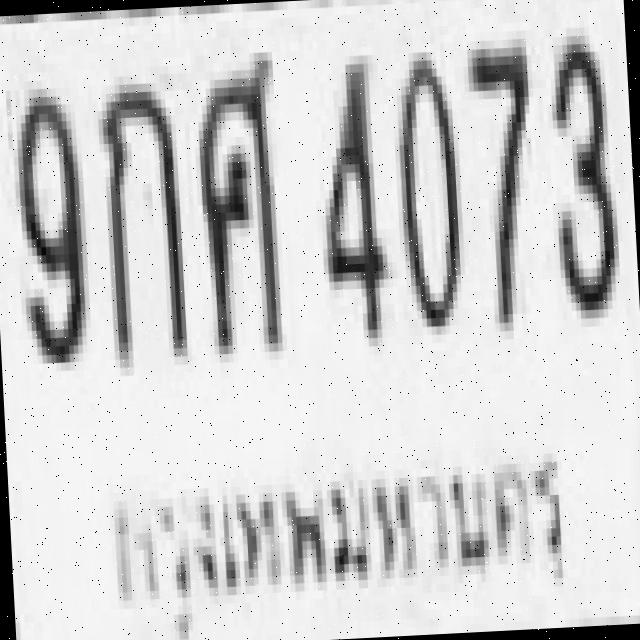0: (389, 42, 464, 328)
10GorGai: (96, 74, 183, 360)
3: (544, 26, 618, 312)
4: (308, 47, 387, 341)
47SorSala: (190, 48, 283, 351)
7: (462, 39, 540, 324)
9: (10, 80, 88, 364)
Bangkok: (78, 407, 575, 640)
